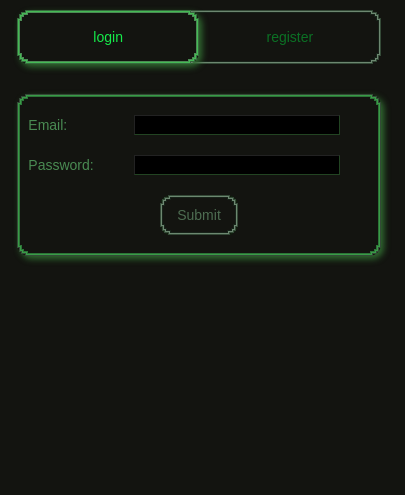
Test: LoginForm — register mode › satisfied password criterion shows [x]
This screenshot has width=405, height=495.
Click the button "login register". click: click(108, 37)
box: [17,10,381,64]
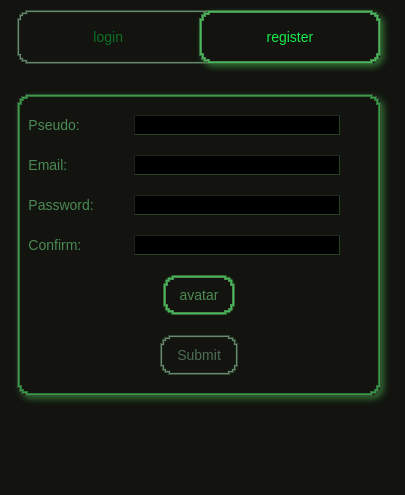
Type "Abcdef1!" into the password field labelled "Password:". click: (237, 205)
box: [134,195,340,215]
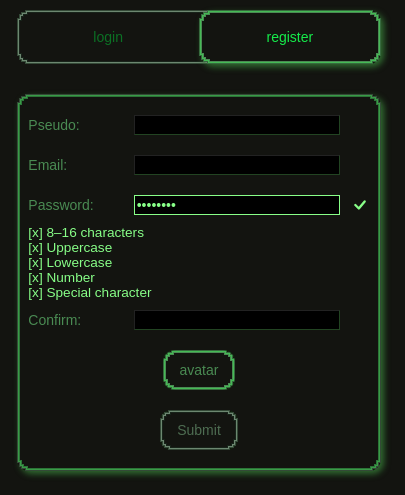
Now the list item "[x] 8–16 characters" is shown, box [28,225,144,240]
